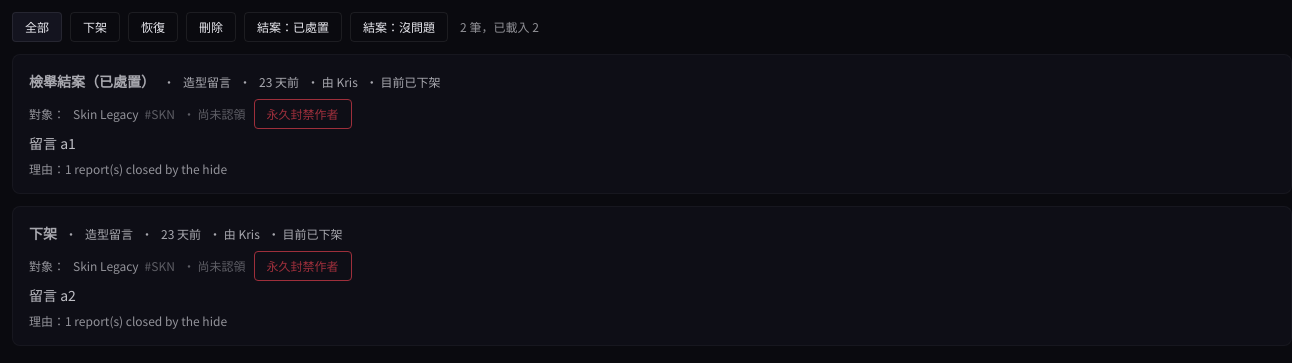
ContentHistory › names a legacy skin comment's author after the takedown and bans their key
The width and height of the screenshot is (1292, 363).
Expected: the text "留言 a1" is shown, [29,133,76,153]
Expected: the text "Skin Legacy" is shown 2 times, [73,106,139,122]; [73,258,139,274]
Step 1. Click the button "永久封禁作者" below "檢舉結案（已處置）" → [303, 114], box [254,99,352,129]
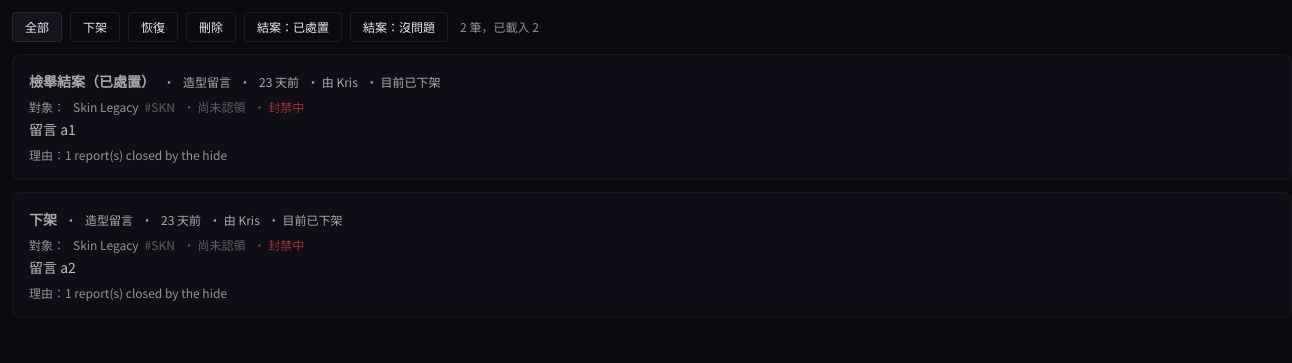
Expected: the text "· 封禁中" is shown 2 times, [254,99,304,115]; [254,237,304,253]
Expected: the button "永久封禁作者" is gone
